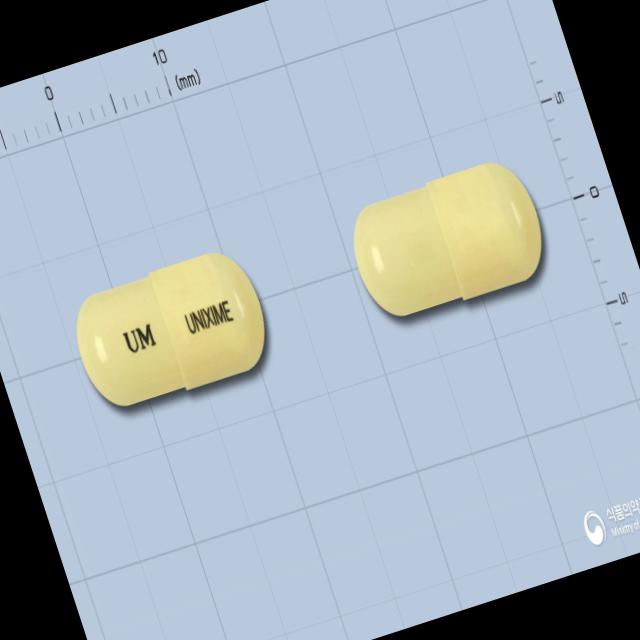Unixcim Cap: (62, 241, 280, 420)
